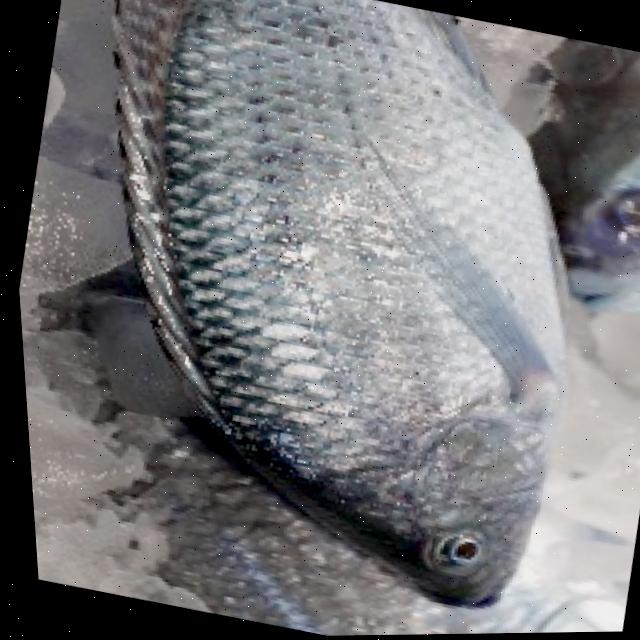Fresh: (117, 66, 640, 636)
